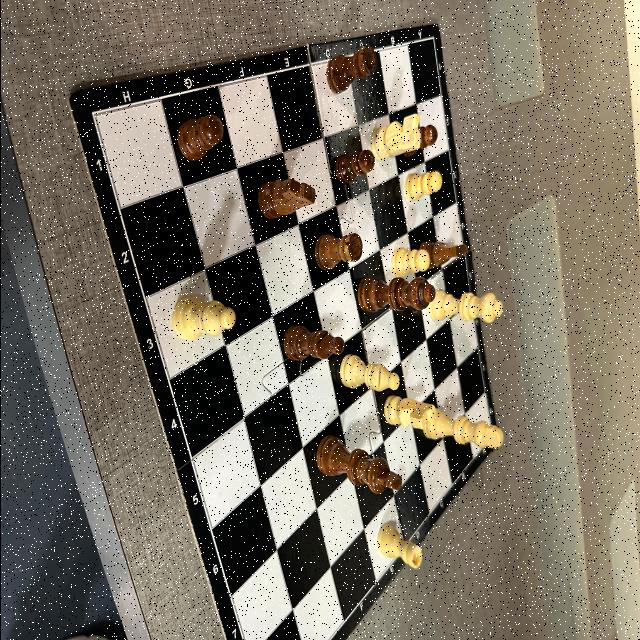Black-Bishop: (284, 323, 344, 359)
Black-King: (316, 434, 402, 494)
Black-Knight: (256, 178, 314, 220), (420, 242, 468, 271)
Black-Pawn: (177, 115, 222, 161), (334, 150, 374, 182), (420, 125, 436, 146)
Black-Queen: (356, 278, 434, 312)
Black-Rook: (326, 48, 374, 94), (313, 232, 361, 270)
White-Bishop: (170, 296, 235, 340), (338, 354, 398, 390)
White-King: (422, 408, 504, 448)
White-Knight: (370, 113, 420, 160), (383, 396, 436, 430)
White-Pawn: (404, 171, 442, 201), (391, 248, 428, 278)
White-Queen: (428, 290, 502, 324)
White-Rook: (377, 524, 422, 568)
